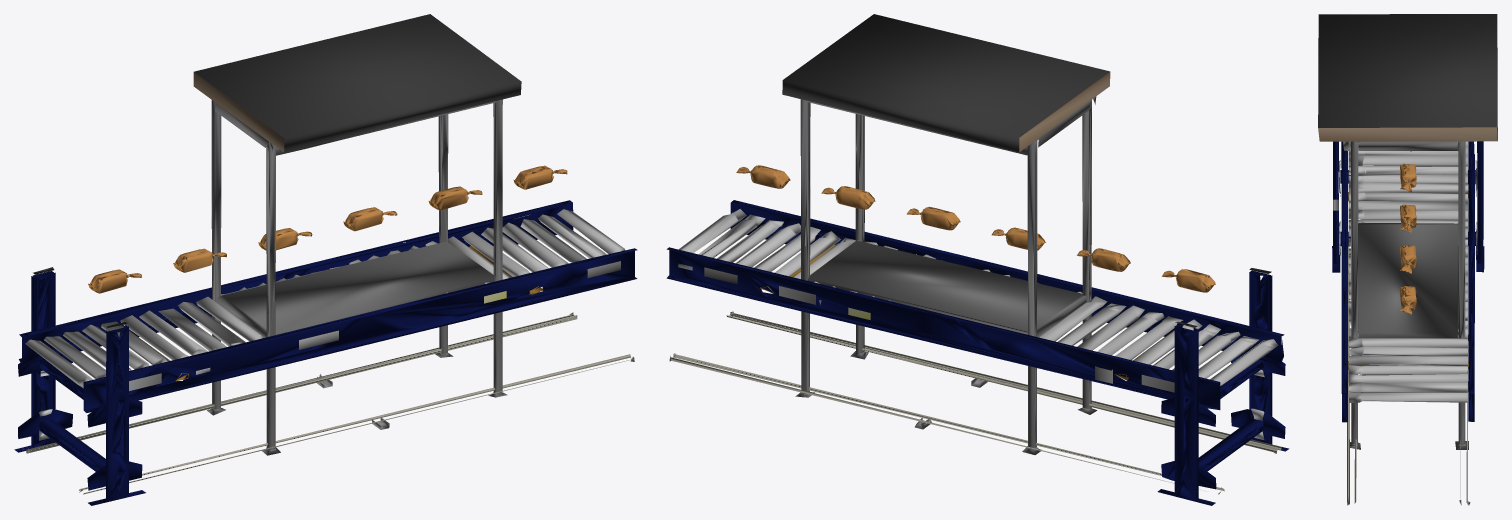
The model's file is packer.glb.
The picture shows the model from 3 angles, left to right: view 1: azimuth 30°, elevation 25°; view 2: azimuth 150°, elevation 25°; view 3: azimuth 270°, elevation 25°; orthographic projection.
Visible parts, largest first — view 1: static_packer, anim_belt_items; view 2: static_packer, anim_belt_items; view 3: static_packer, anim_belt_items.
Boxes of the visible parts, x1,y1,x2,y2 form: static_packer: (14,14,637,505); anim_belt_items: (88,165,567,293); static_packer: (666,14,1289,505); anim_belt_items: (736,165,1215,292); static_packer: (1318,14,1497,505); anim_belt_items: (1400,151,1416,314).
Size of the model in its own units: 2.85 by 1.62 by 0.8204.
